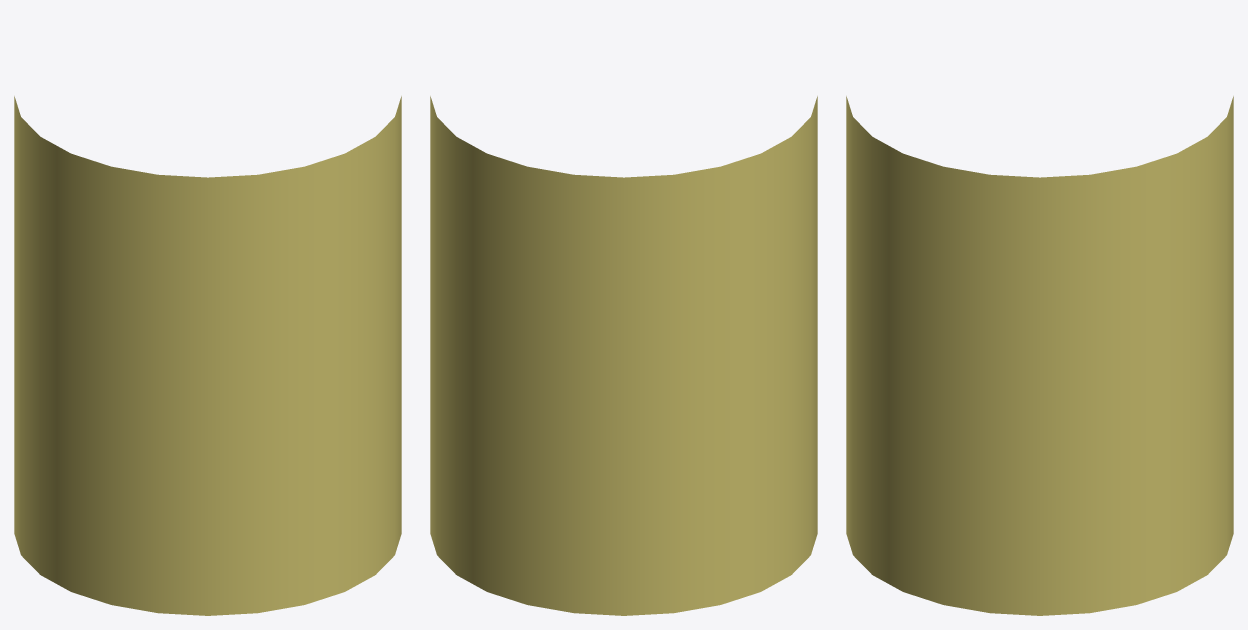
3 views of the same model, side by side, from view 1: azimuth 30°, elevation 25°; view 2: azimuth 150°, elevation 25°; view 3: azimuth 270°, elevation 25° (orthographic).
Parts seen in each view (by area): view 1: cylinder; view 2: cylinder; view 3: cylinder.
Part boxes in pixels (box(x1,y1,x2,y2)): cylinder: box(14, 96, 401, 615); cylinder: box(430, 96, 817, 615); cylinder: box(846, 96, 1233, 615).
Size of the model in its own units: 0.8 by 1 by 0.8.
